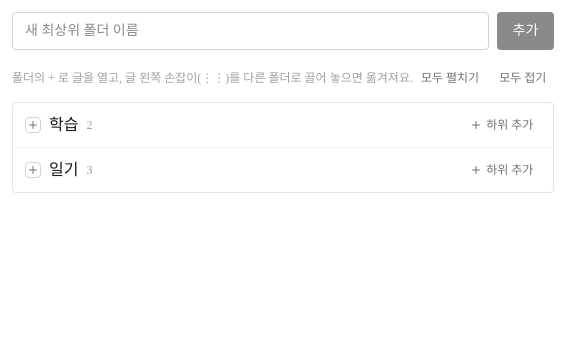
it: PostMover (글 이동 탭) › 폴더를 펼치면 그 안의 글과 하위 폴더가 보이고, 접으면 다시 사라진다
Click the button named "학습 펼치기": click(33, 125) [25,117,41,133]
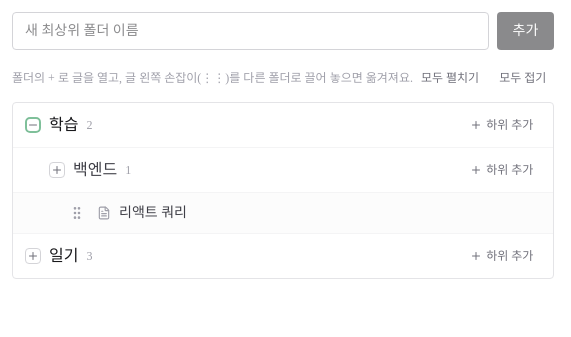
Check: the text "NestJS 정리" is not shown
Check: the link "리액트 쿼리" is shown, box [119,203,187,223]
Check: the text "백엔드" is shown, box [73,158,117,182]
Click the button named "백엔드 펼치기": click(57, 170) [49,162,65,178]
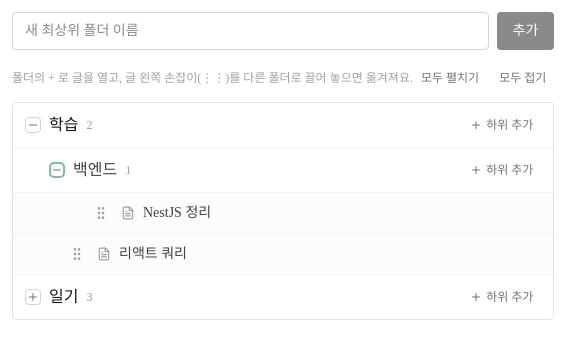
Check: the link "NestJS 정리" is shown, box [143,203,211,223]
Click the button named "학습 접기": click(33, 125) [25,117,41,133]
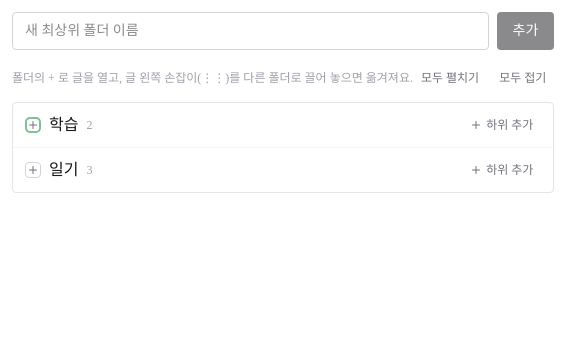
Check: the link "리액트 쿼리" is gone
Check: the link "NestJS 정리" is gone
